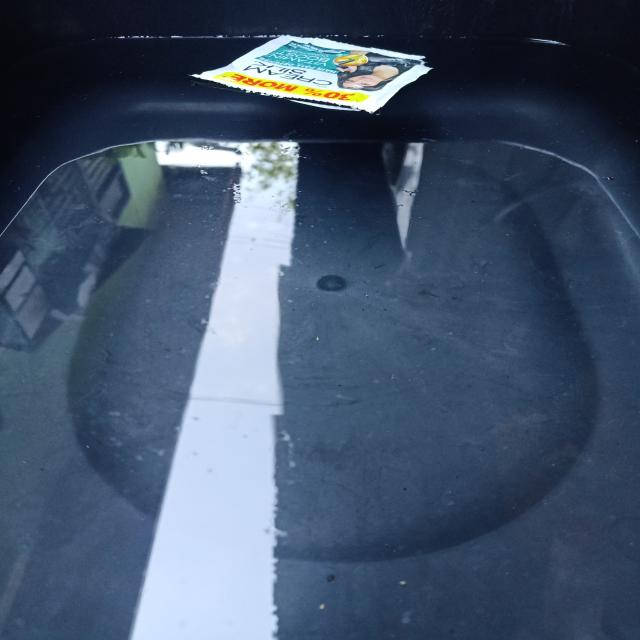Plastic Wrapper: (168, 27, 454, 128)
